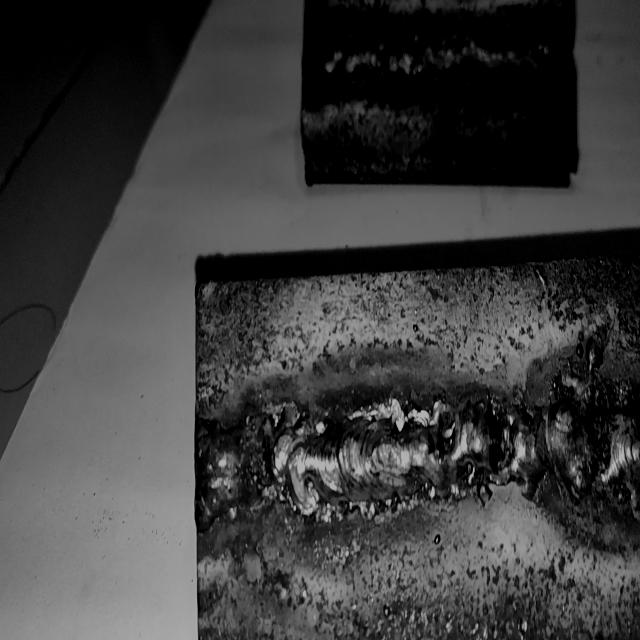Bad Weld: (202, 393, 640, 519)
Defect: (435, 398, 605, 505), (197, 407, 295, 523)
Good Weld: (312, 31, 572, 78)
